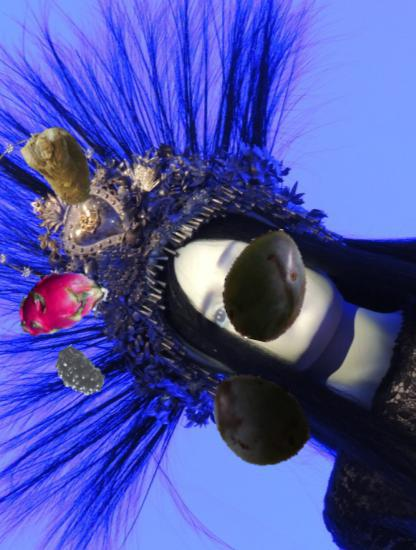Ginger: (17, 125, 103, 211)
Mulberry: (51, 345, 107, 401)
Pitahaya: (12, 253, 110, 351)
Plum: (209, 227, 323, 341), (205, 365, 313, 473)
